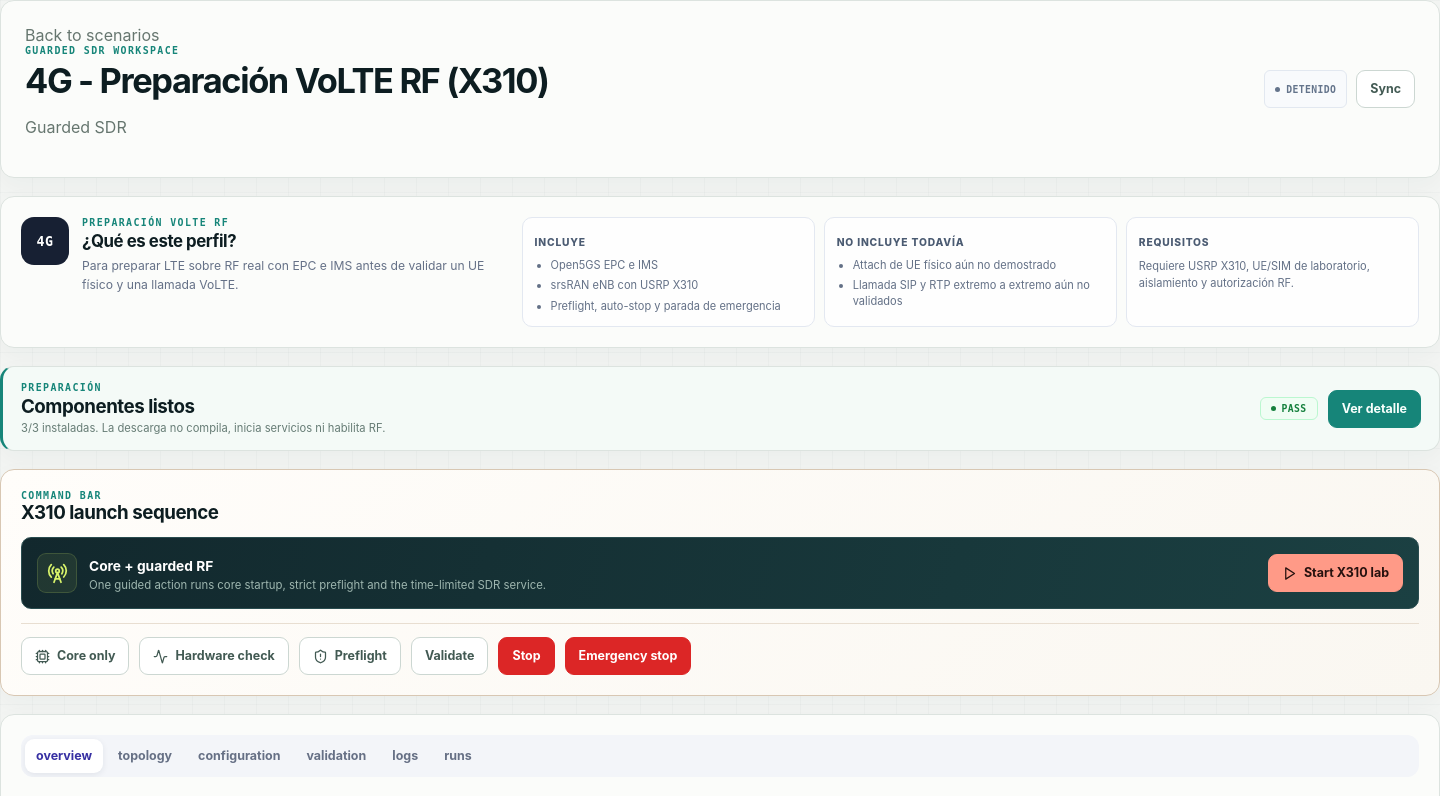
Test case: Scenario workspaces › blocks RF launch while profile changes are not applied
Click the button "Start X310 lab" at x=1335, y=573, box left=1268, top=554, right=1403, bottom=592
(page scrolled)
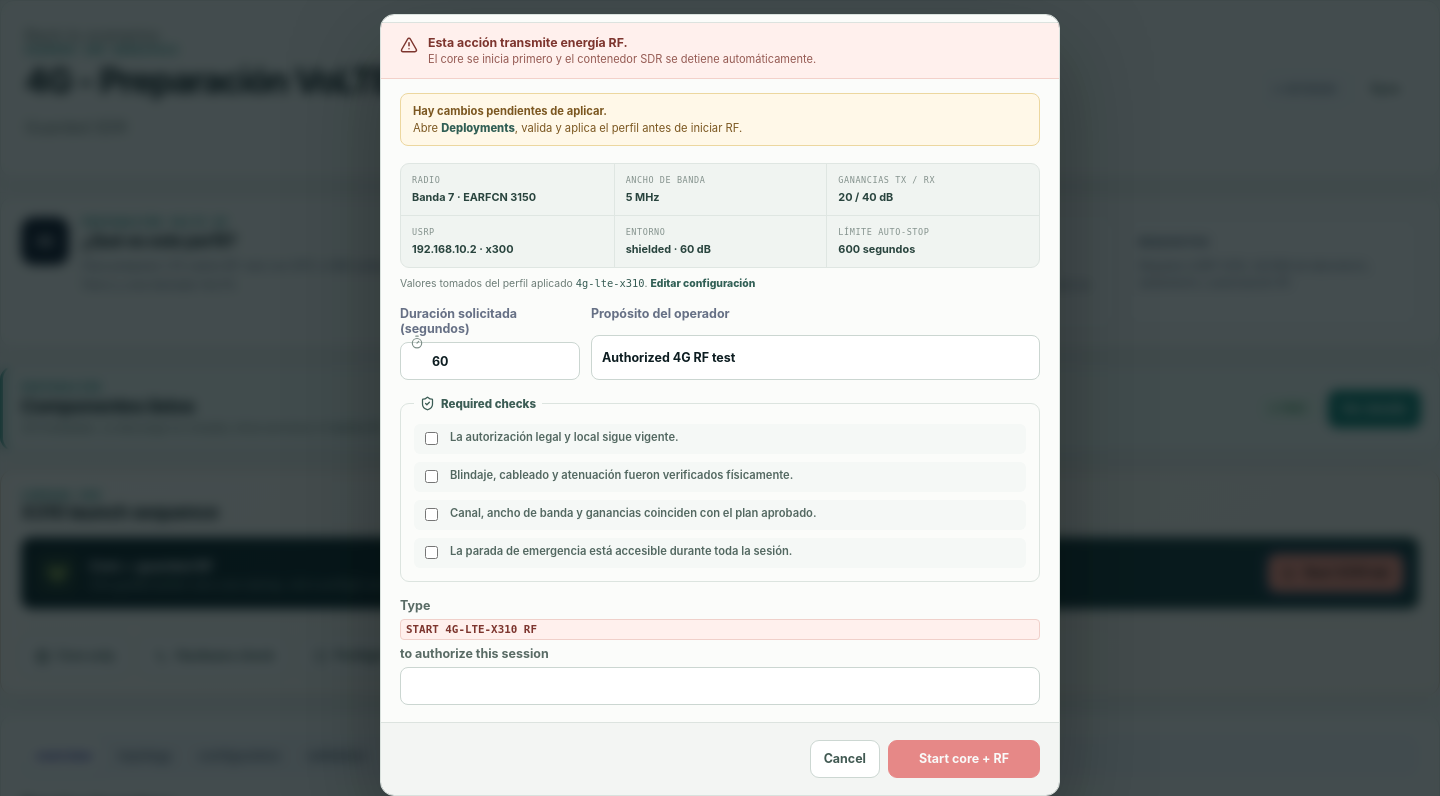
Expected: the text "Hay cambios pendientes de aplicar." is shown, left=413, top=104, right=607, bottom=118
Expected: the button "Start core + RF" is disabled, left=888, top=740, right=1040, bottom=778
